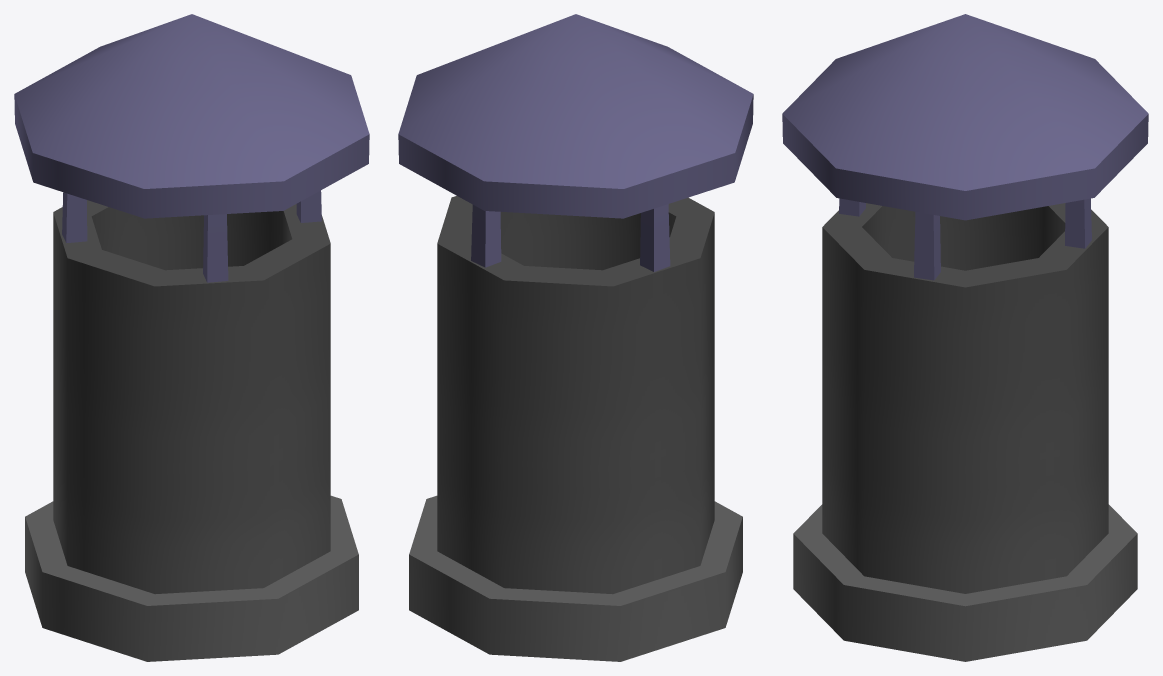
Rendered from Chimney_1_B_3.fbx.
The picture shows the model from 3 angles, left to right: view 1: azimuth 30°, elevation 25°; view 2: azimuth 150°, elevation 25°; view 3: azimuth 270°, elevation 25°; orthographic projection.
Visible parts, largest first — view 1: Chimney_1_B_3; view 2: Chimney_1_B_3; view 3: Chimney_1_B_3.
Part boxes in pixels (x1,y1,x2,y2): Chimney_1_B_3: (14,14,369,661); Chimney_1_B_3: (398,14,753,661); Chimney_1_B_3: (782,14,1148,661).
Bounding box in the file's own units: 65.76 × 114 × 65.76.
